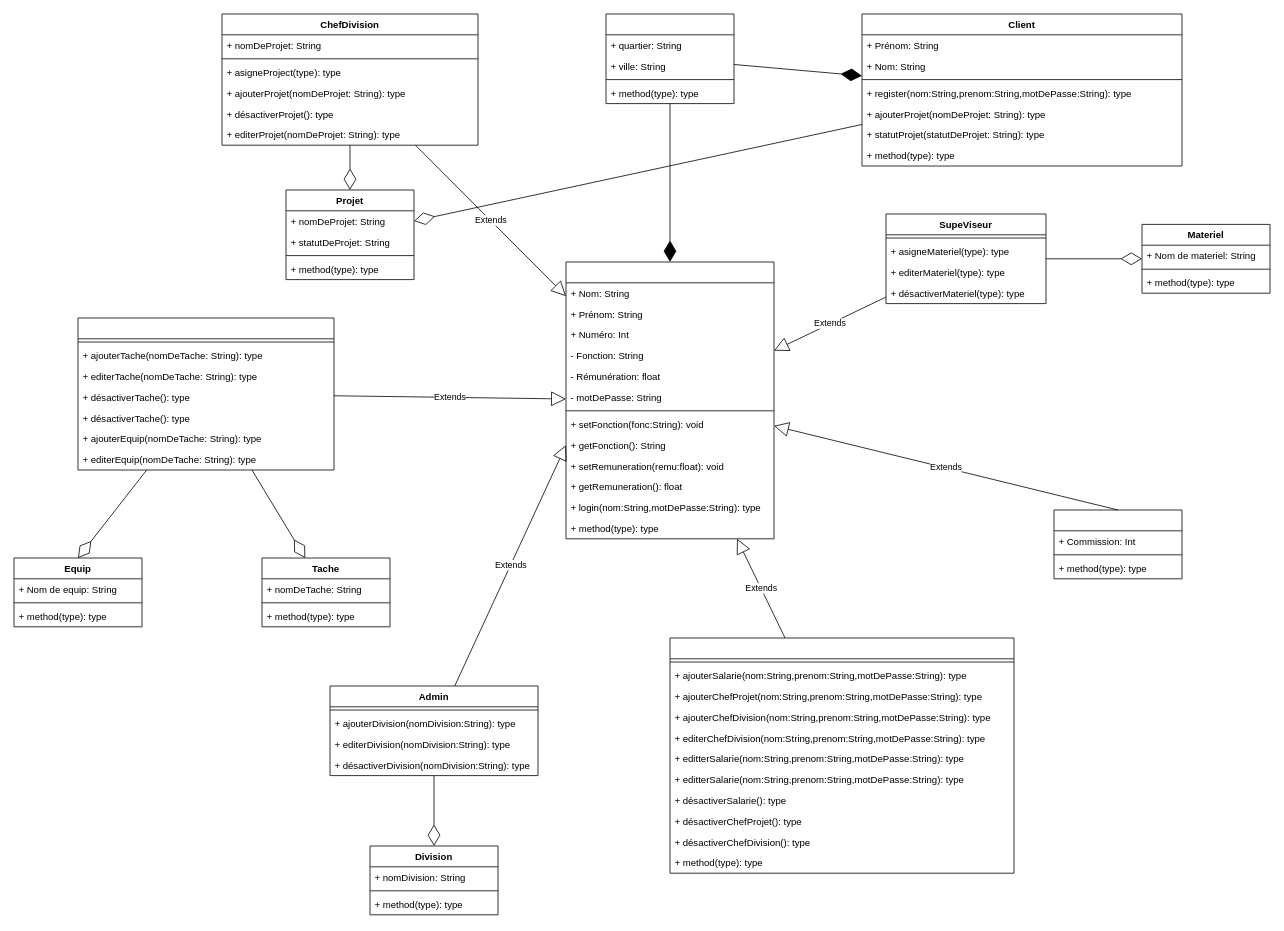
This 1284x931 diagram has some shape labels left out. The shapes that lost their labels are listed below. From the top down, each one's box as (x1, y1, x2, y2) in pixels, then its label:
(605, 13, 734, 104): address
(77, 317, 334, 470): ChefProject
(565, 261, 774, 539): Salariee
(1053, 509, 1182, 579): Vendeur
(669, 637, 1014, 873): RessourceHumaine
